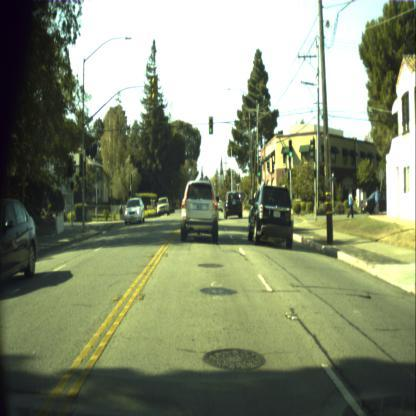Green: (288, 140, 292, 156), (209, 116, 212, 134), (258, 164, 260, 176)
